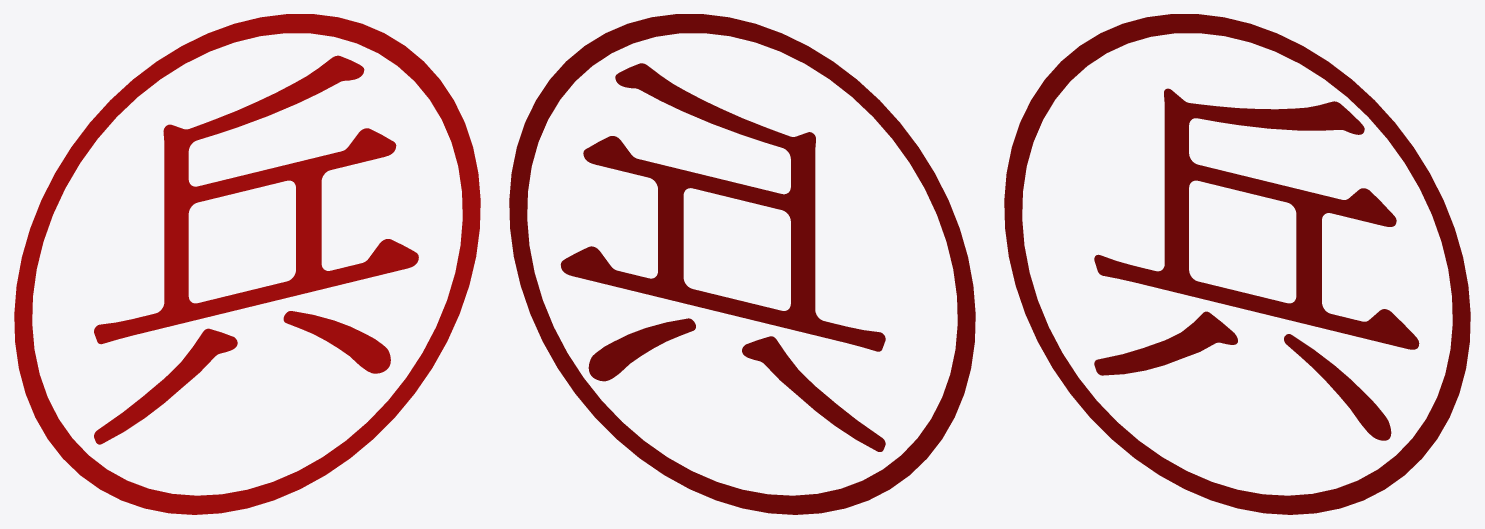
The model's file is h01_chess_red_soldier_text.obj.
3 views of the same model, side by side, from view 1: azimuth 30°, elevation 25°; view 2: azimuth 150°, elevation 25°; view 3: azimuth 330°, elevation 25° (orthographic).
Bounding box in the file's own units: 0.026 × 0.026 × 0.0005.
